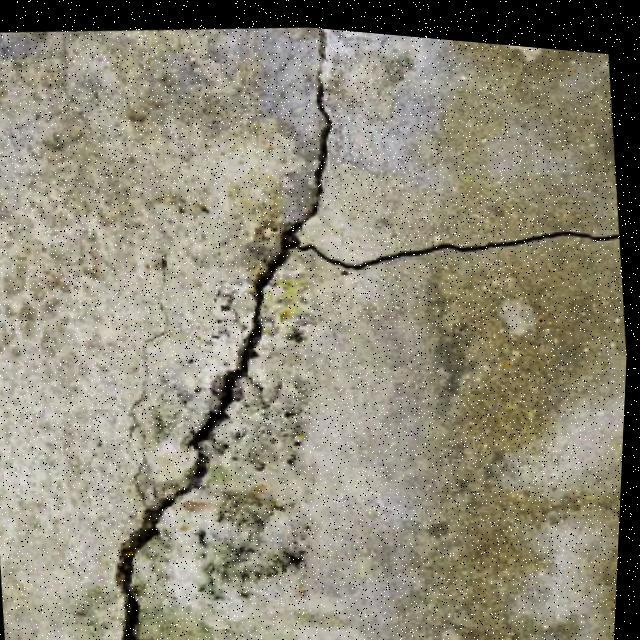branched cracks: (116, 30, 618, 639)
